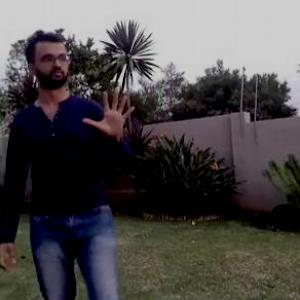follow_hand: (82, 83, 138, 140)
